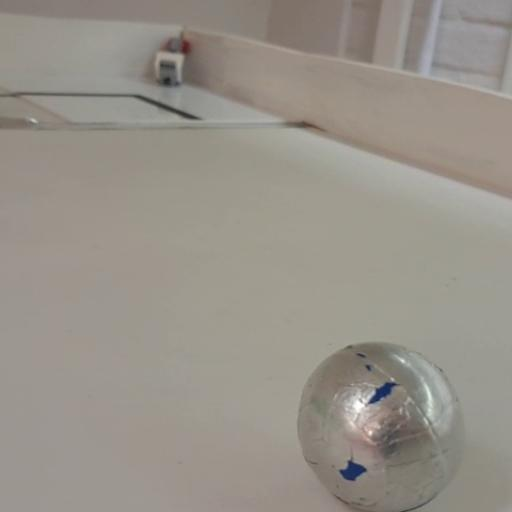alive: (295, 341, 464, 509)
